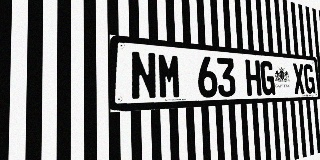3: (217, 57, 236, 97)
6: (197, 56, 218, 98)
G: (260, 61, 275, 95), (303, 64, 315, 94)
H: (245, 59, 262, 96)
M: (157, 53, 182, 99)
N: (130, 51, 157, 100)
X: (292, 63, 305, 94)
